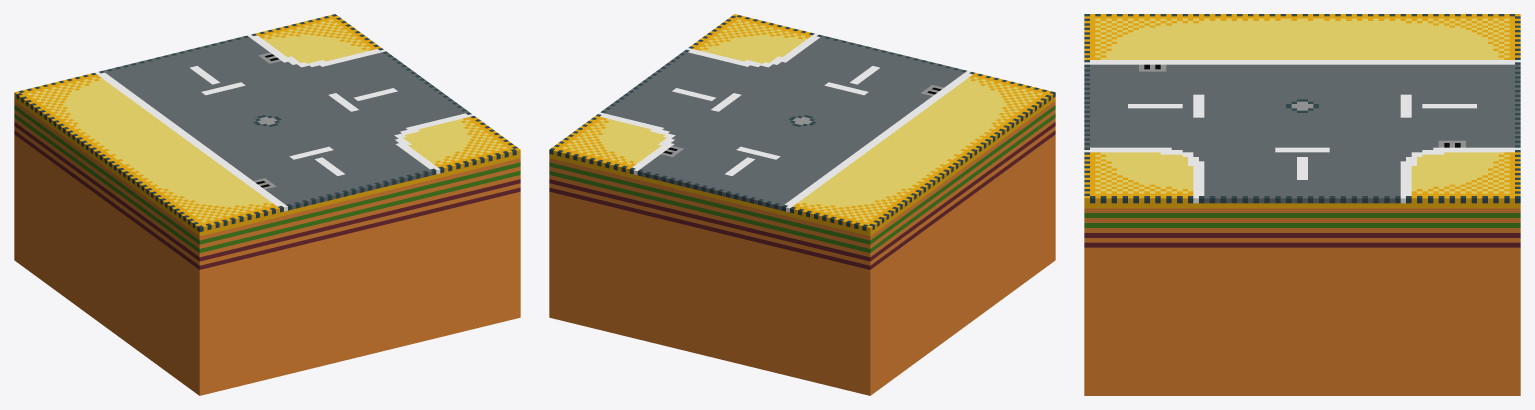
The model's file is sand_road_3_tile.obj.
3 renders of one model, left to right at view 1: azimuth 30°, elevation 25°; view 2: azimuth 150°, elevation 25°; view 3: azimuth 270°, elevation 25°, orthographic. The views are drawn at different scales.
Size of the model in its own units: 8 by 4 by 8.
1 material, 1 textured.
